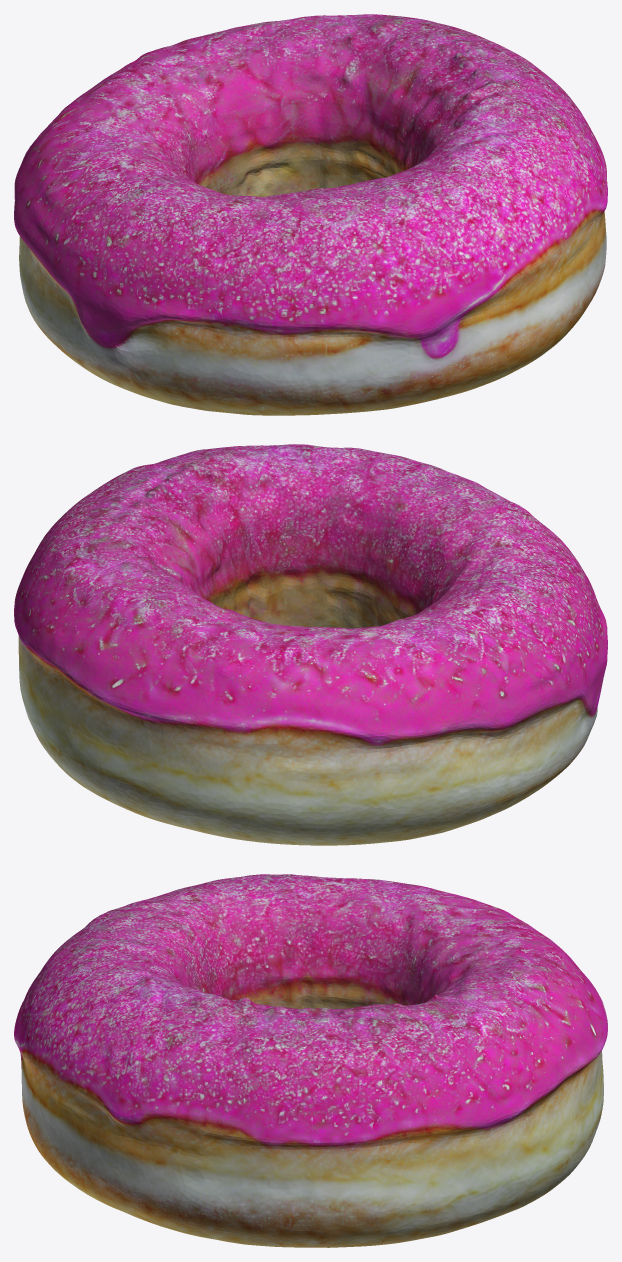
The model's file is pinkDonut.glb.
The picture shows the model from 3 angles, top to bottom: view 1: azimuth 30°, elevation 25°; view 2: azimuth 150°, elevation 25°; view 3: azimuth 270°, elevation 25°; orthographic projection.
Visible parts, largest first — view 1: model; view 2: model; view 3: model.
Boxes of the visible parts, x1,y1,x2,y2 form: model: (14,14,607,415); model: (14,444,607,845); model: (14,874,607,1247).
Bounding box in the file's own units: 1.83 × 0.8083 × 1.83.
Materials: 1 (1 with a texture image).
